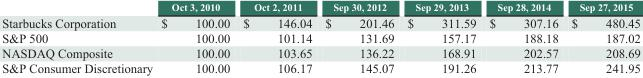table: (1, 0, 639, 75)
table column: (1, 0, 156, 75), (235, 0, 318, 75), (318, 0, 400, 75), (400, 0, 482, 75), (482, 0, 564, 75), (156, 0, 235, 75), (564, 0, 639, 75)
table column header: (1, 0, 639, 13)
table row: (1, 13, 639, 30), (1, 30, 639, 45), (1, 45, 639, 60), (1, 60, 639, 75), (1, 0, 639, 13)
